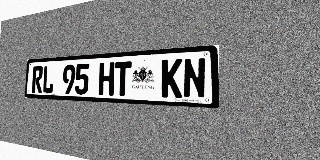5: (75, 63, 89, 95)
9: (62, 64, 76, 94)
H: (98, 62, 115, 96)
K: (161, 59, 182, 98)
L: (42, 65, 54, 93)
N: (183, 57, 206, 99)
R: (32, 66, 43, 93)
T: (114, 61, 132, 96)
